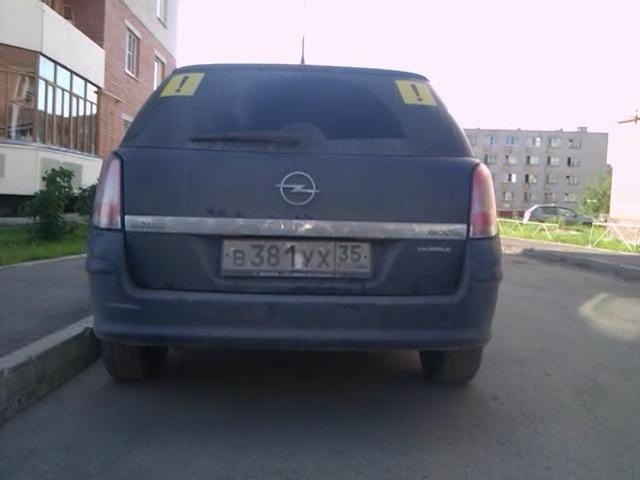car license plate: (218, 234, 376, 284)
